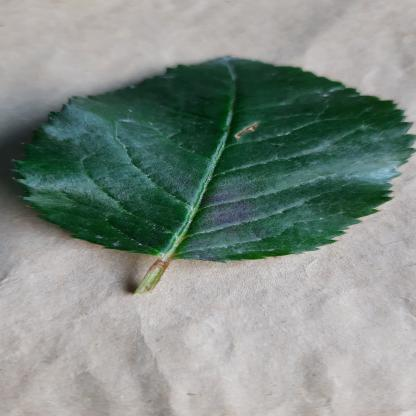normal: (14, 55, 412, 262)
